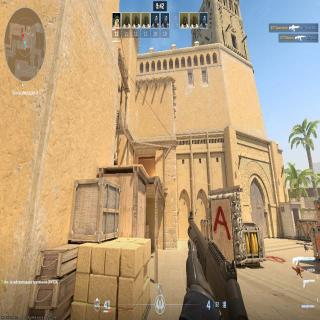CT-Body: (114, 151, 118, 165)
